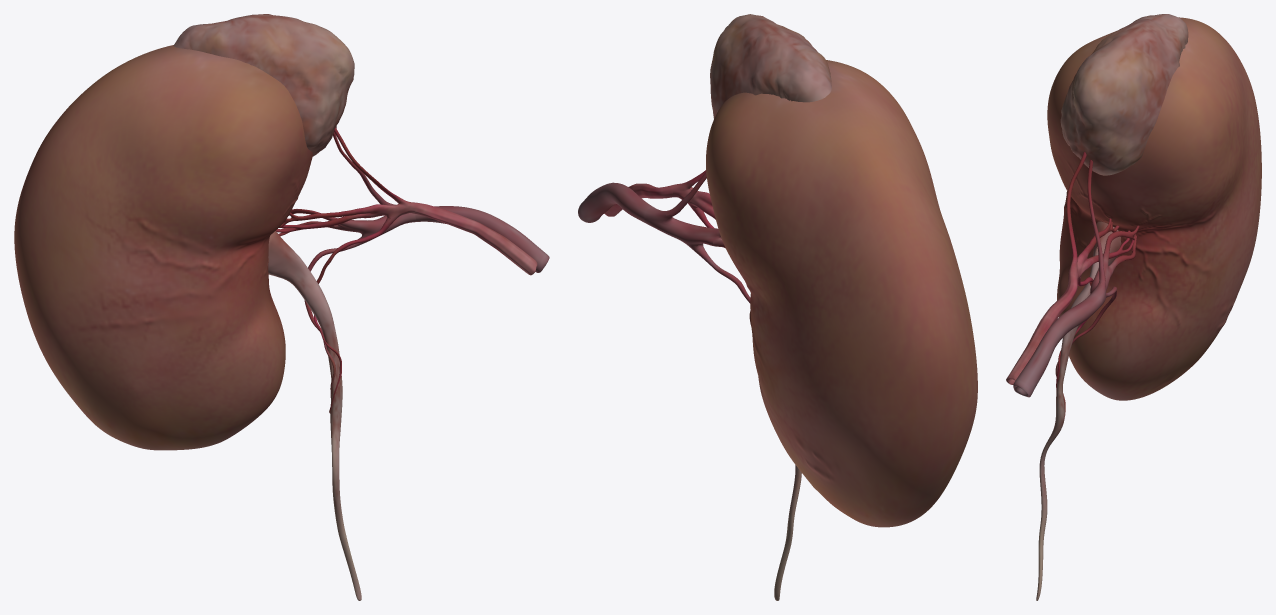
3 renders of one model, left to right at view 1: azimuth 30°, elevation 25°; view 2: azimuth 150°, elevation 25°; view 3: azimuth 270°, elevation 25°, orthographic. The views are drawn at different scales.
Parts seen in each view (by area): view 1: Object_13, Object_12, Object_11, Object_9, Object_10, Object_4, Object_3, Object_2, Object_7, Object_8; view 2: Object_12, Object_11, Object_13, Object_4, Object_3, Object_9, Object_2, Object_7, Object_10; view 3: Object_12, Object_11, Object_13, Object_9, Object_4, Object_2, Object_10, Object_3, Object_7.
Part boxes in pixels (x1,y1,x2,y2): Object_13: (28, 51, 312, 443); Object_12: (14, 45, 312, 450); Object_11: (173, 14, 354, 156); Object_9: (268, 231, 361, 600); Object_10: (413, 202, 537, 275); Object_4: (415, 206, 549, 272); Object_3: (326, 127, 415, 242); Object_2: (278, 132, 395, 399); Object_7: (348, 195, 416, 225); Object_8: (314, 221, 389, 413); Object_12: (706, 60, 968, 527); Object_11: (710, 14, 831, 118); Object_13: (722, 65, 977, 526); Object_4: (578, 182, 654, 222); Object_3: (644, 170, 721, 259); Object_9: (774, 465, 801, 600); Object_2: (662, 172, 750, 303); Object_7: (672, 178, 715, 219); Object_10: (604, 183, 674, 216); Object_12: (1059, 17, 1261, 400); Object_11: (1060, 14, 1188, 175); Object_13: (1047, 48, 1261, 396); Object_9: (1036, 221, 1121, 600); Object_4: (1013, 295, 1101, 397); Object_2: (1055, 159, 1139, 418); Object_10: (1006, 275, 1077, 384); Object_3: (1066, 152, 1112, 305); Object_7: (1068, 246, 1095, 282).
Size of the model in its own units: 3.59 by 4.42 by 1.86.
